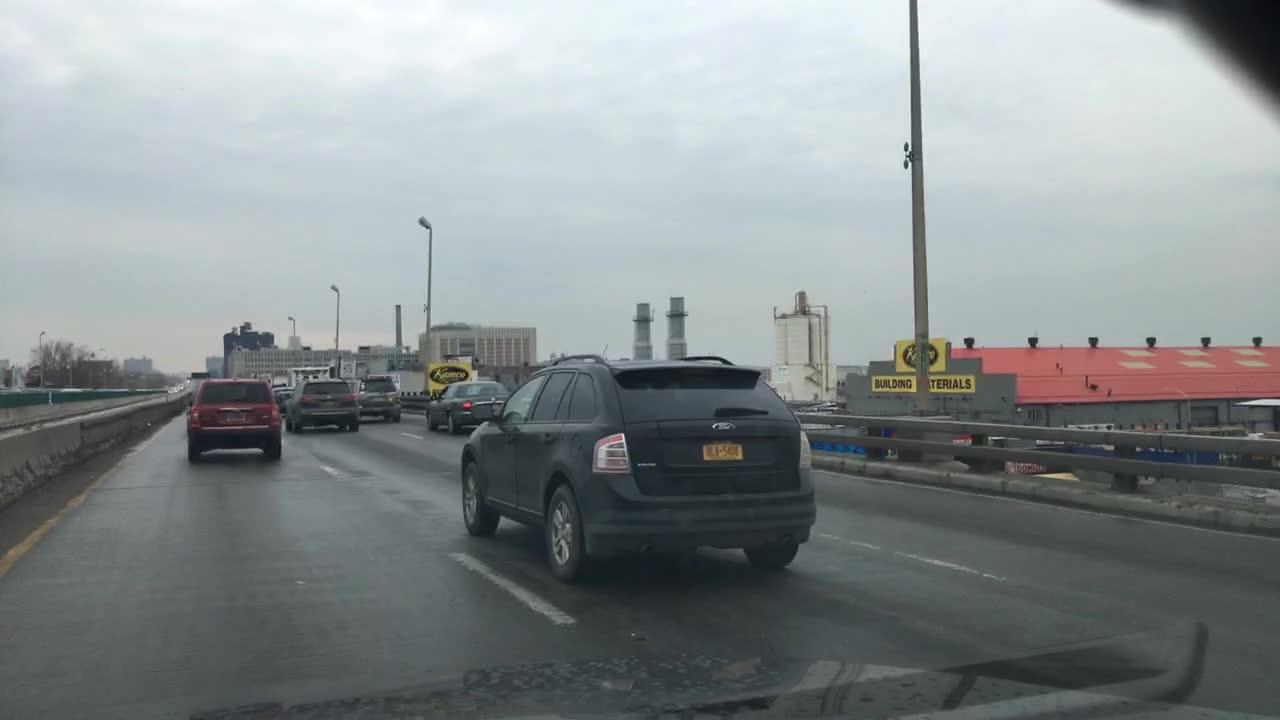ford: (710, 418, 739, 437)
